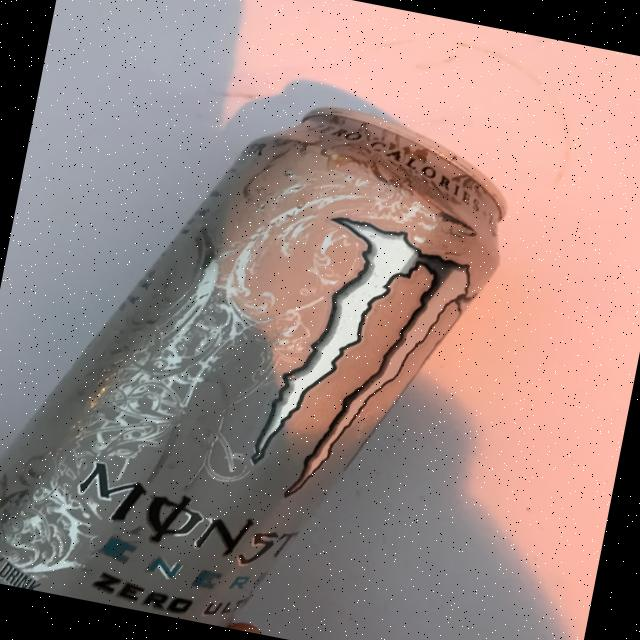metal: (0, 49, 524, 640)
